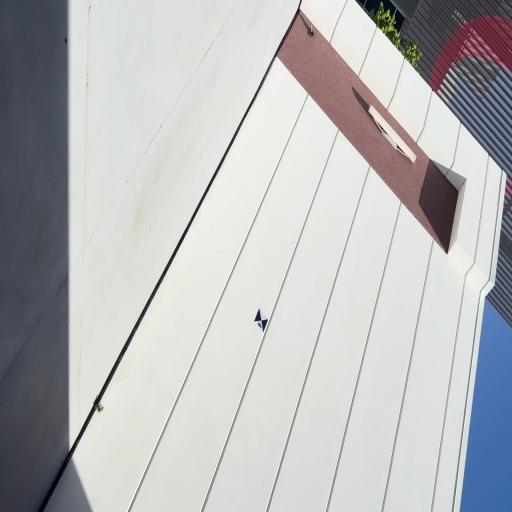target4: (254, 307, 269, 333)
